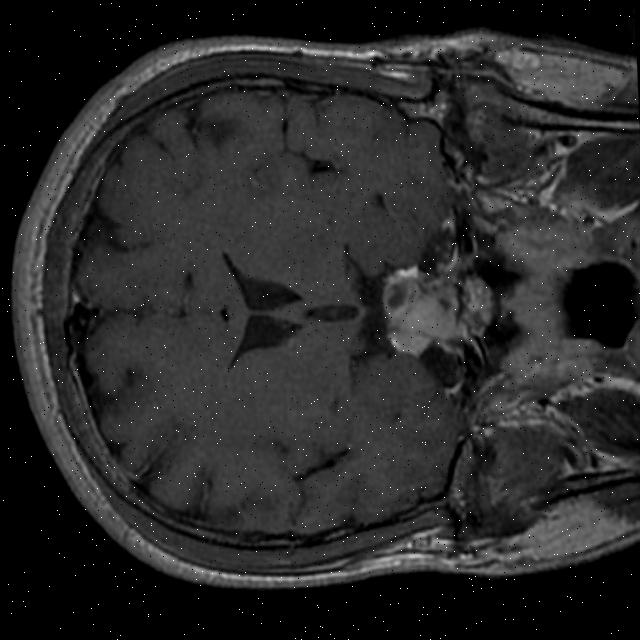Pituitary: (379, 263, 497, 360)
